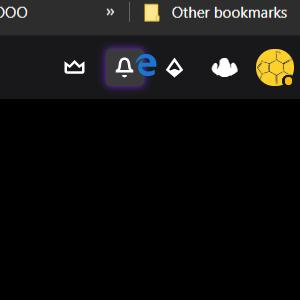edge: (135, 53, 157, 77)
